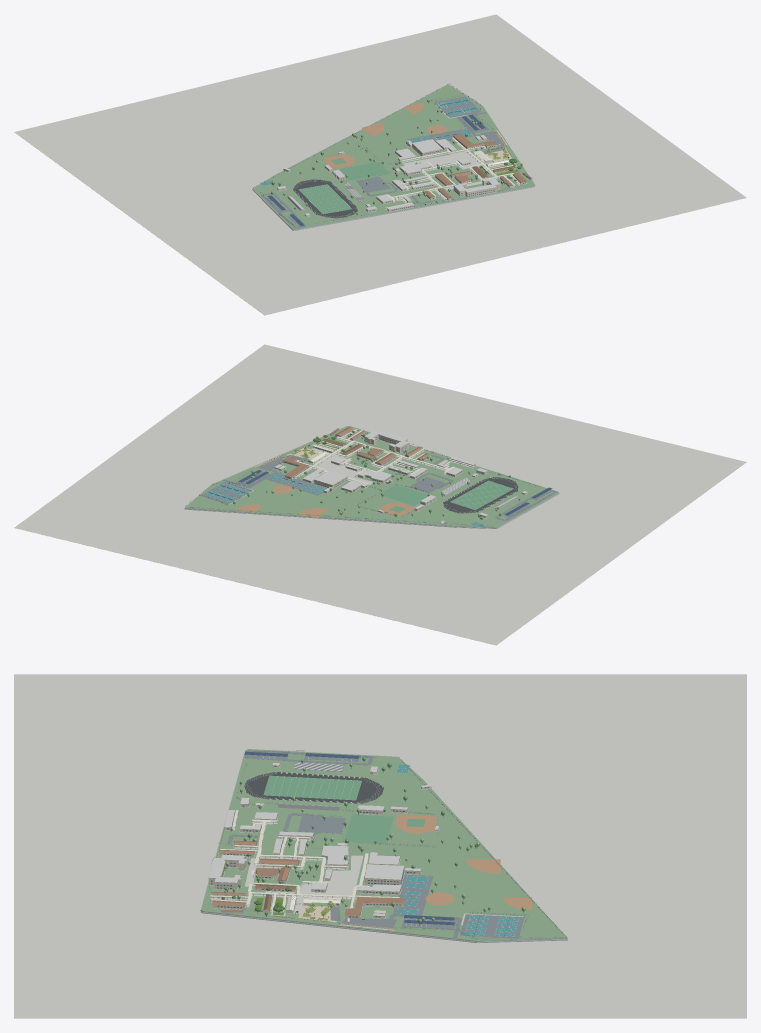
The model's file is arroyo-entrance-styled.glb.
3 renders of one model, top to bottom at view 1: azimuth 30°, elevation 25°; view 2: azimuth 150°, elevation 25°; view 3: azimuth 270°, elevation 25°, orthographic. The views are drawn at different scales.
Parts seen in each view (by area): view 1: Extended viewing ground, Campus lawn, way-1250886424, way-1250886425, way-1250886422; view 2: Extended viewing ground, Campus lawn, way-1250886424, way-1250886425, way-1250886422, Campus plinth.009; view 3: Extended viewing ground, Campus lawn, way-1250886424, way-1250886425, way-1250886422, gym-quad, way-1510898022, hard-court-apron, Campus plinth.005, West parking, way-1250886423.
Part boxes in pixels (box(x1,y1,x2,y2)): Extended viewing ground: box(14, 14, 746, 315); Campus lawn: box(252, 84, 534, 229); way-1250886424: box(298, 184, 351, 214); way-1250886425: box(293, 179, 357, 218); way-1250886422: box(338, 162, 389, 180); Extended viewing ground: box(14, 344, 746, 645); Campus lawn: box(185, 426, 558, 527); way-1250886424: box(450, 480, 513, 509); way-1250886425: box(443, 477, 518, 513); way-1250886422: box(379, 485, 427, 505); Campus plinth.009: box(218, 510, 457, 527); Extended viewing ground: box(14, 674, 746, 1018); Campus lawn: box(201, 749, 567, 940); way-1250886424: box(264, 775, 361, 800); way-1250886425: box(244, 772, 383, 803); way-1250886422: box(343, 814, 393, 843); gym-quad: box(300, 855, 363, 897); way-1510898022: box(460, 914, 524, 938); hard-court-apron: box(393, 874, 433, 915); Campus plinth.005: box(202, 911, 457, 940); West parking: box(298, 816, 345, 833); way-1250886423: box(395, 814, 437, 833).
Bounding box in the file's own units: 1000 × 14.73 × 900.
